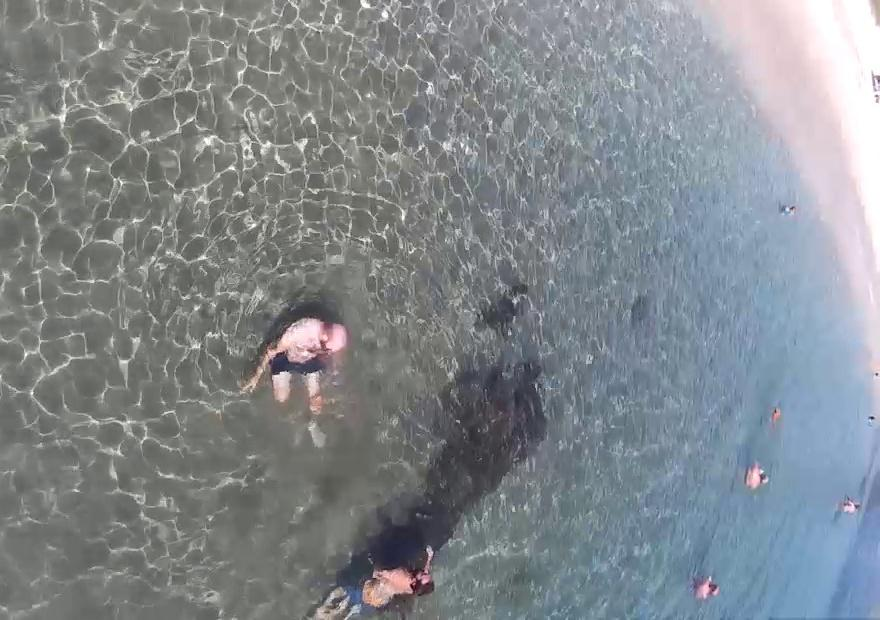swimmer: (220, 265, 346, 465), (745, 452, 768, 512), (835, 490, 858, 526), (705, 562, 726, 598), (0, 1, 0, 1)
